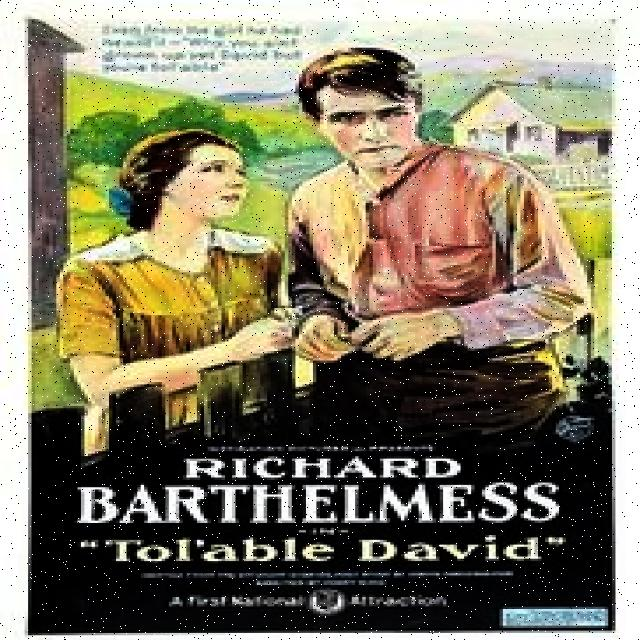movie-judul: (69, 448, 591, 578)
picture: (56, 50, 591, 449)
